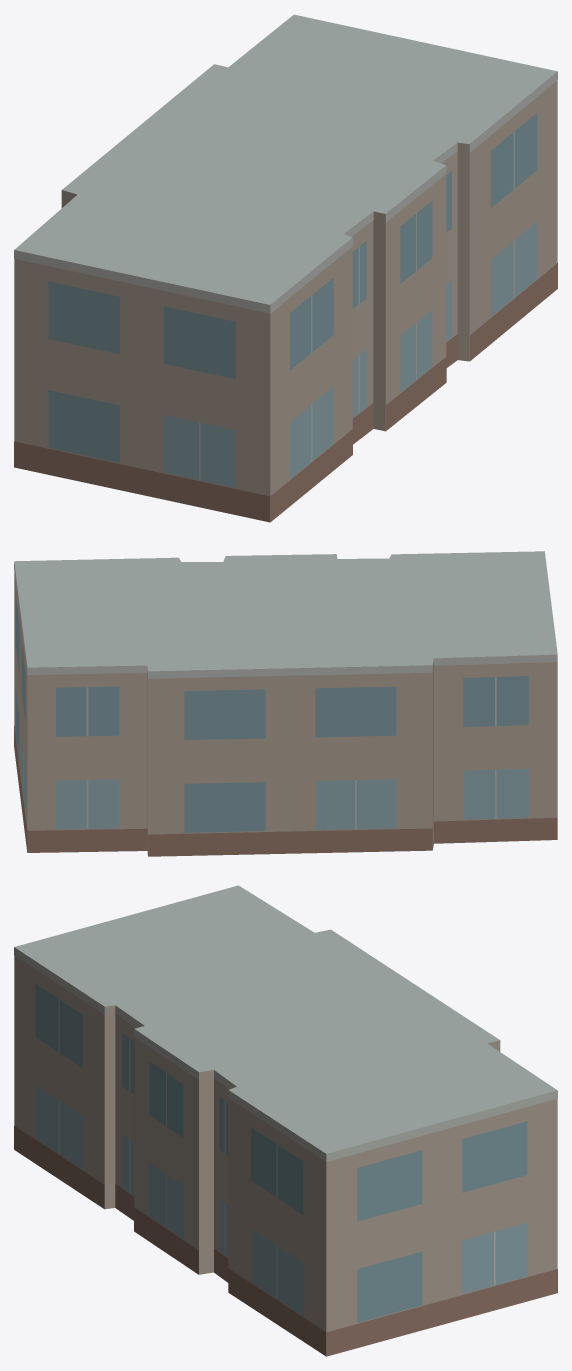
The model's file is survey-upis-32729861.glb.
3 renders of one model, top to bottom at view 1: azimuth 30°, elevation 25°; view 2: azimuth 150°, elevation 25°; view 3: azimuth 270°, elevation 25°, orthographic. The views are drawn at different scales.
Parts seen in each view (by area): view 1: survey-upis-32729861.tmp; view 2: survey-upis-32729861.tmp; view 3: survey-upis-32729861.tmp.
Boxes of the visible parts, left/top/right/bottom form: survey-upis-32729861.tmp: left=14, top=14, right=557, bottom=522; survey-upis-32729861.tmp: left=14, top=551, right=557, bottom=856; survey-upis-32729861.tmp: left=14, top=885, right=557, bottom=1356.
Size of the model in its own units: 17.36 by 6.1 by 14.85.
